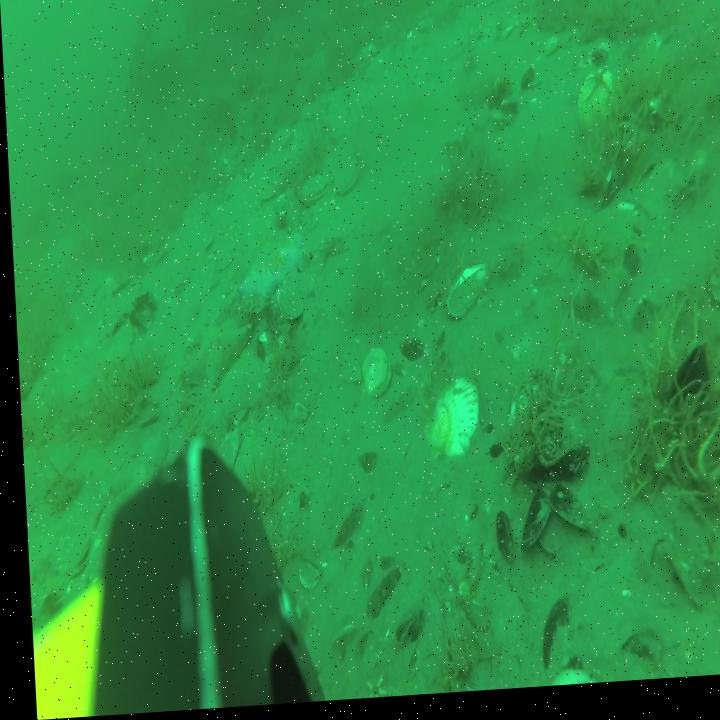scallop: (419, 386, 475, 467), (439, 268, 490, 326), (575, 80, 613, 141), (355, 352, 390, 401), (333, 150, 360, 201), (300, 173, 331, 204)
starfish: (177, 315, 253, 394), (230, 238, 305, 305)
